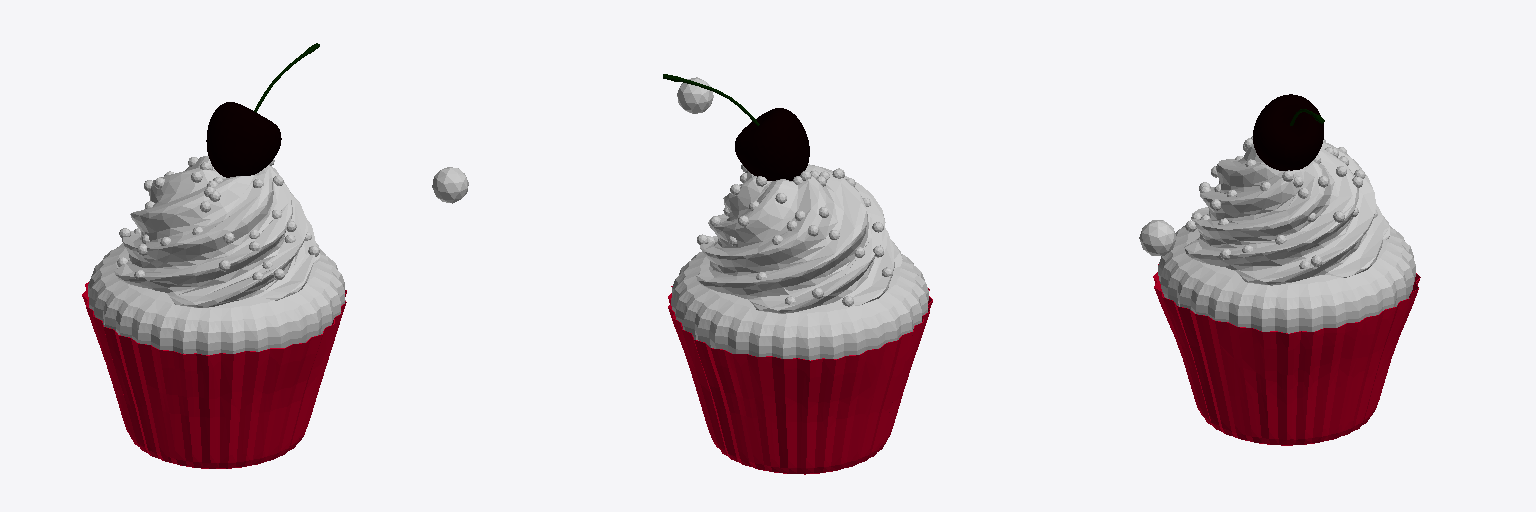
Rendered from Lowpolly_cupcake.obj.
3 renders of one model, left to right at view 1: azimuth 30°, elevation 25°; view 2: azimuth 150°, elevation 25°; view 3: azimuth 270°, elevation 25°, orthographic.
Visible parts, largest first — view 1: Circle.003, Cylinder.001, Circle.002_Circle.000, Sphere.001, Icosphere; view 2: Circle.003, Cylinder.001, Circle.002_Circle.000, Sphere.001, Icosphere; view 3: Circle.003, Cylinder.001, Circle.002_Circle.000, Sphere.001, Icosphere.
Part boxes in pixels (bbox=[...]): Circle.003: bbox=[82, 282, 346, 468]; Cylinder.001: bbox=[114, 156, 319, 307]; Circle.002_Circle.000: bbox=[88, 243, 345, 354]; Sphere.001: bbox=[206, 43, 319, 177]; Icosphere: bbox=[117, 157, 468, 281]; Circle.003: bbox=[668, 286, 932, 474]; Cylinder.001: bbox=[696, 164, 902, 313]; Circle.002_Circle.000: bbox=[671, 251, 928, 360]; Sphere.001: bbox=[663, 74, 809, 180]; Icosphere: bbox=[677, 77, 892, 306]; Circle.003: bbox=[1153, 264, 1420, 445]; Cylinder.001: bbox=[1184, 142, 1389, 285]; Circle.002_Circle.000: bbox=[1158, 225, 1415, 333]; Sphere.001: bbox=[1253, 94, 1324, 170]; Icosphere: bbox=[1139, 136, 1377, 268].
Size of the model in its own units: 4.1 by 4.64 by 3.35.